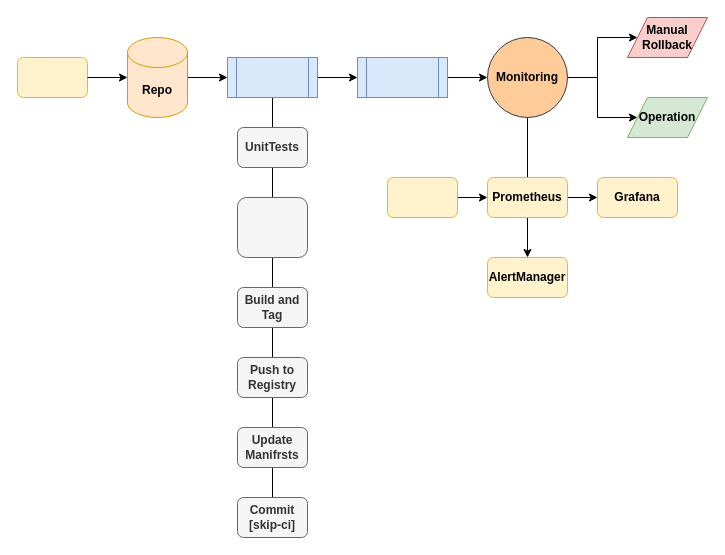
Image size: 725x555. Some labels were removed from this diagram. Here are the shapes that lost their labels. From the top down, the centre of each, then its label:
point (52, 77): Commit
point (272, 77): CI
point (402, 77): ArgoCD sync
point (422, 197): Cluster
point (272, 227): Run Compose and SmokeTests
